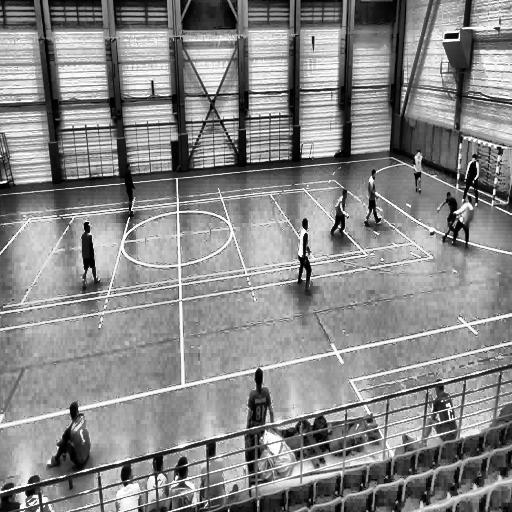ball: (429, 226, 435, 238)
player: (46, 402, 92, 469), (416, 378, 459, 446), (246, 368, 275, 434), (200, 438, 226, 504), (170, 454, 196, 512), (145, 451, 169, 512), (81, 221, 102, 289), (20, 474, 54, 512), (115, 465, 142, 512), (296, 216, 313, 290), (436, 191, 458, 246), (453, 193, 473, 249), (462, 149, 481, 206), (364, 168, 382, 227), (330, 188, 349, 239), (0, 475, 20, 512), (124, 162, 136, 217), (413, 150, 423, 194)
